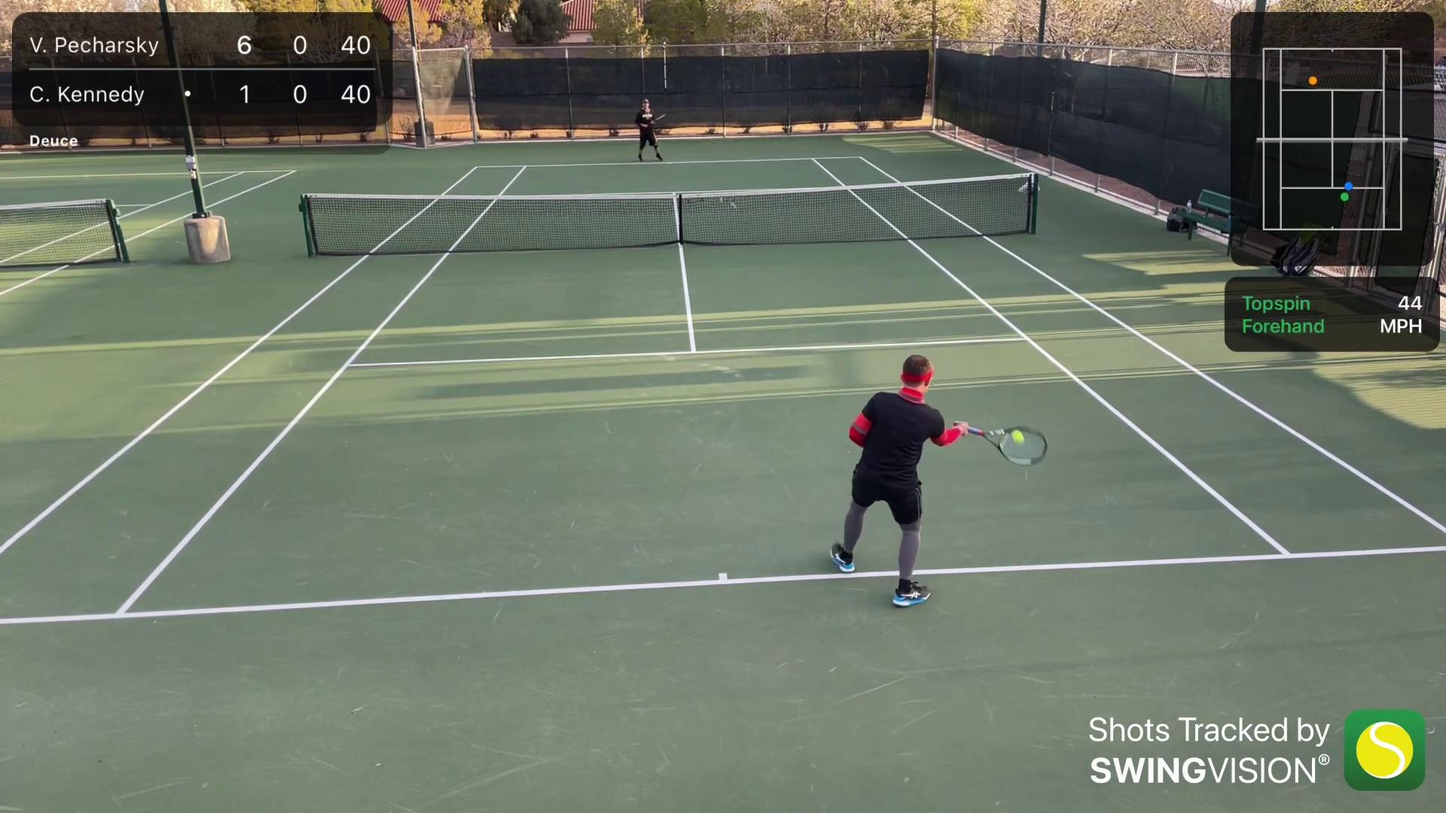ball: (1008, 428, 1028, 446)
